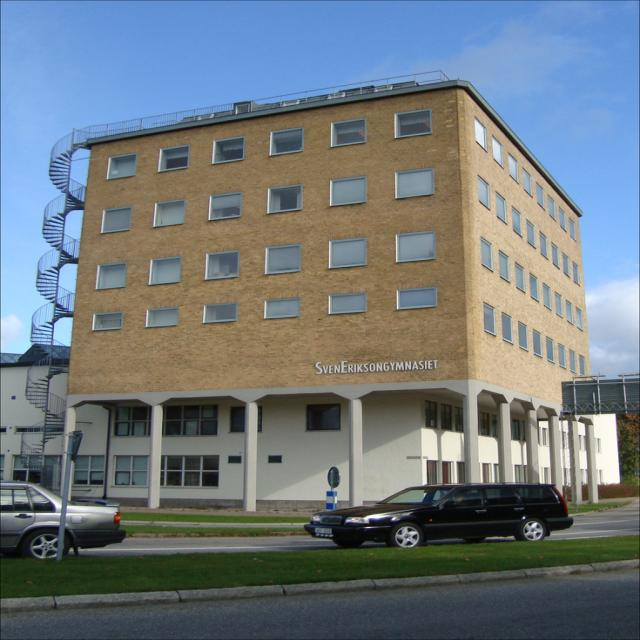car: (301, 480, 572, 551)
